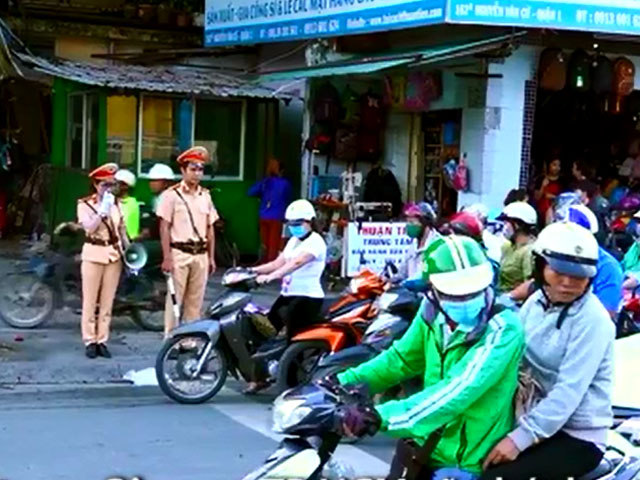police: (74, 140, 226, 361)
